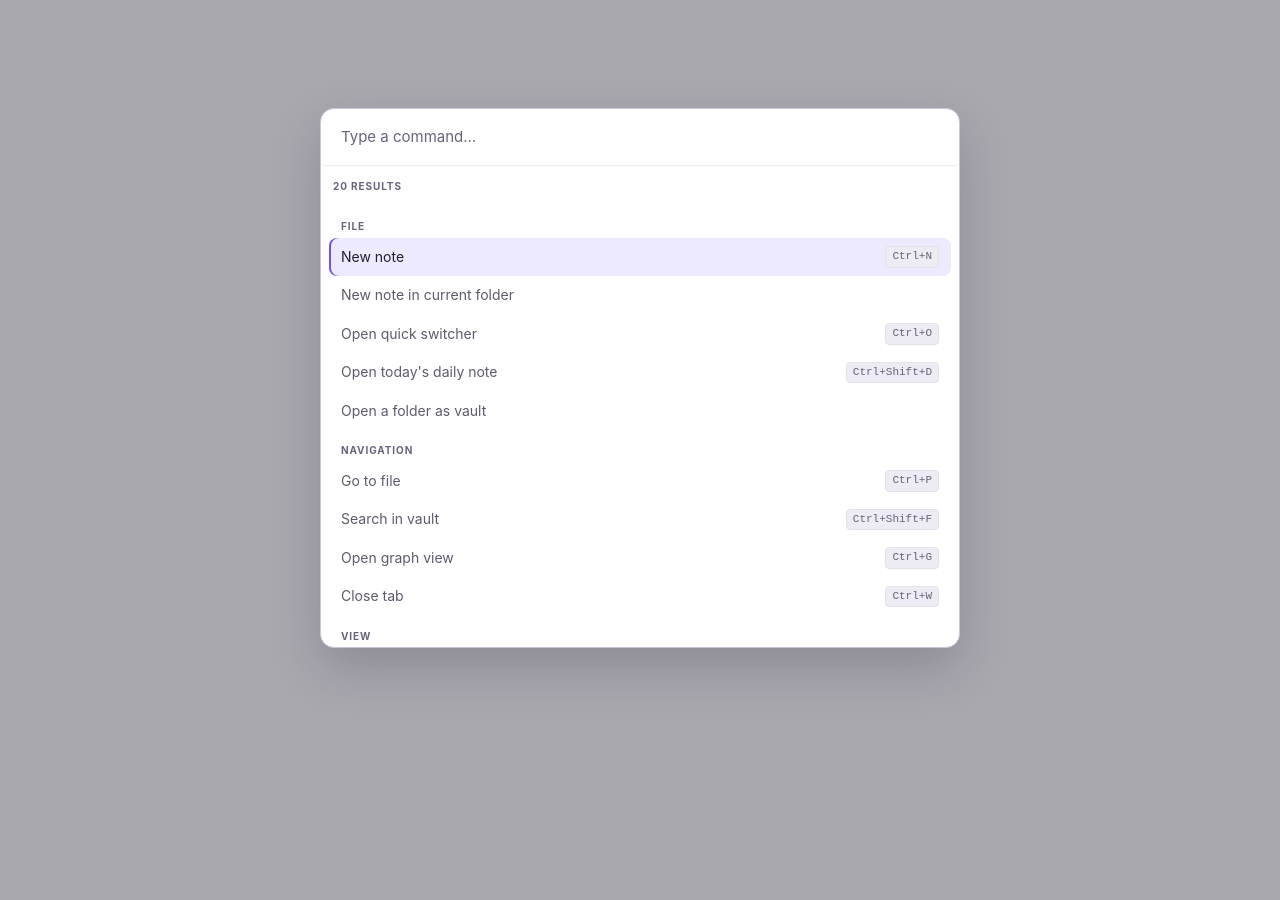
CommandPalette › announces the result count
Type "go to file" into the dropdown. click: point(640, 138)
box: top-left (321, 109), bottom-right (959, 166)
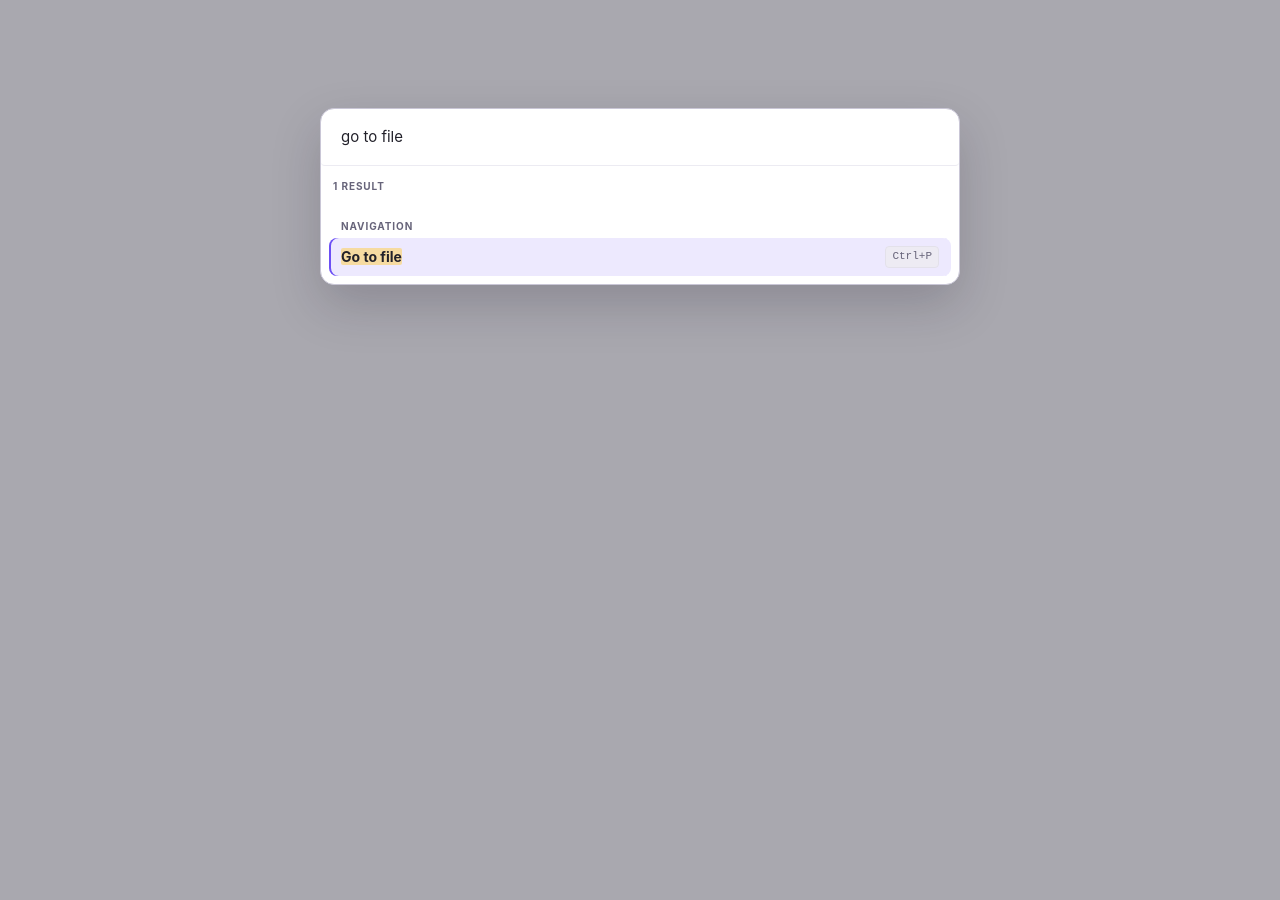
Expected: the message reads "1 result", top-left (333, 180), bottom-right (385, 192)
